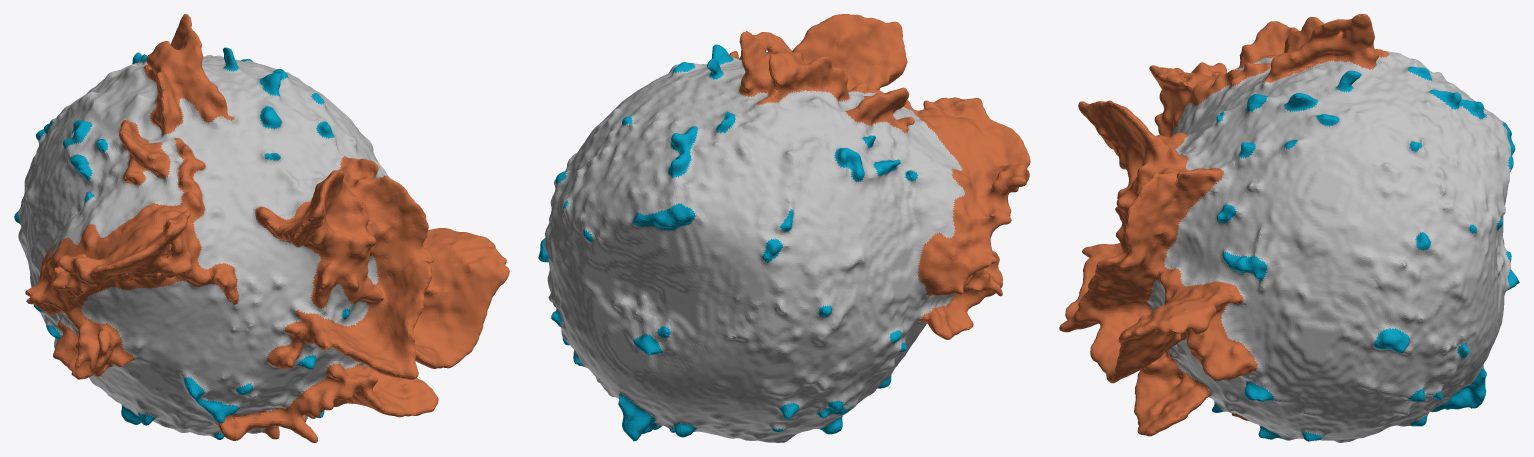
3 renders of one model, left to right at view 1: azimuth 30°, elevation 25°; view 2: azimuth 150°, elevation 25°; view 3: azimuth 270°, elevation 25°, orthographic. The views are drawn at different scales.
Size of the model in its own units: 180 by 168 by 173.
